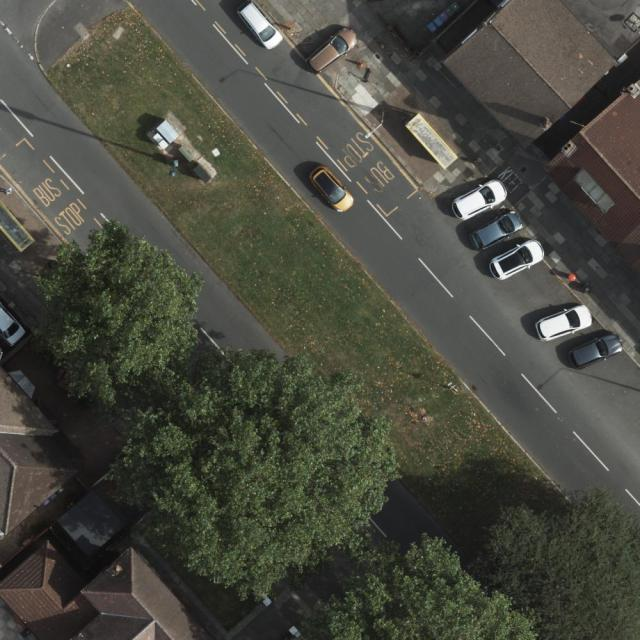roof: (440, 0, 619, 150), (0, 537, 222, 640), (541, 77, 640, 276), (0, 363, 94, 543)
